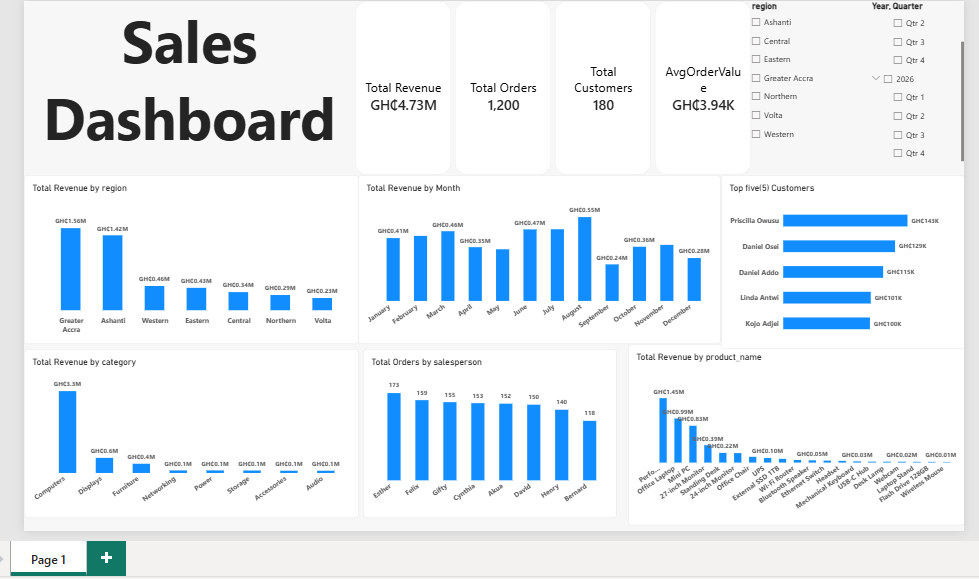

The page's visual inventory and layout, read from the dashboard file:
{"tool":"powerbi","page":{"name":"Page 1","canvas":[1920,1080],"ordinal":0},"visuals":[{"type":"cardVisual","fields":{"Data":["Calculated Measures.Total Revenue","Calculated Measures.Total Orders","Calculated Measures.Total Customers","Calculated Measures.AvgOrderValue"]},"box":[675,0,810,355],"z":0},{"type":"clusteredColumnChart","fields":{"Category":["public orders.order_date.Variation.Date Hierarchy.Month"],"Y":["Calculated Measures.Total Revenue"]},"box":[682.5,355,740,345],"z":1000},{"type":"clusteredColumnChart","fields":{"Category":["public customers.region"],"Y":["Calculated Measures.Total Revenue"]},"box":[0,355,682.5,345],"z":2000},{"type":"clusteredColumnChart","fields":{"Category":["public products.category"],"Y":["Calculated Measures.Total Revenue"]},"box":[0,710,683,345],"z":3000},{"type":"clusteredColumnChart","fields":{"Category":["public products.product_name"],"Y":["Calculated Measures.Total Revenue"]},"box":[1232.5,700,687.5,370],"z":4000},{"type":"clusteredBarChart","title":"Top five(5) Customers","fields":{"Category":["public customers.customer_name"],"Y":["Calculated Measures.Total Revenue"]},"box":[1422,356,497.5,355],"z":5000},{"type":"lineClusteredColumnComboChart","fields":{"Category":["public orders.salesperson"],"Y":["Calculated Measures.Total Orders"]},"box":[692.5,710,517.5,345],"z":6000},{"type":"slicer","fields":{"Values":["public customers.region"]},"box":[1477.5,0,227.5,355],"z":7000},{"type":"slicer","fields":{"Values":["public orders.order_date.Variation.Date Hierarchy.Year","public orders.order_date.Variation.Date Hierarchy.Quarter"]},"box":[1722.5,0,197.5,327.5],"z":8000},{"type":"textbox","box":[0,0,675,327.5],"z":9000}]}

Visuals, with their boxes on the page's 1920x1080 design canvas (x1, y1, x2, y2). These are canvas units, not pixel positions in the 979x579 screenshot, which may show the page scaled, cropped or inside an application window:
cardVisual - Calculated Measures.Total Revenue x Calculated Measures.Total Orders: rect(675, 0, 1485, 355)
clusteredColumnChart - public orders.order_date.Variation.Date Hierarchy.Month x Calculated Measures.Total Revenue: rect(682, 355, 1422, 700)
clusteredColumnChart - public customers.region x Calculated Measures.Total Revenue: rect(0, 355, 682, 700)
clusteredColumnChart - public products.category x Calculated Measures.Total Revenue: rect(0, 710, 683, 1055)
clusteredColumnChart - public products.product_name x Calculated Measures.Total Revenue: rect(1232, 700, 1920, 1070)
"Top five(5) Customers" clusteredBarChart: rect(1422, 356, 1920, 711)
lineClusteredColumnComboChart - public orders.salesperson x Calculated Measures.Total Orders: rect(692, 710, 1210, 1055)
slicer - public customers.region: rect(1478, 0, 1705, 355)
slicer - public orders.order_date.Variation.Date Hierarchy.Year x public orders.order_date.Variation.Date Hierarchy.Quarter: rect(1722, 0, 1920, 328)
textbox: rect(0, 0, 675, 328)
